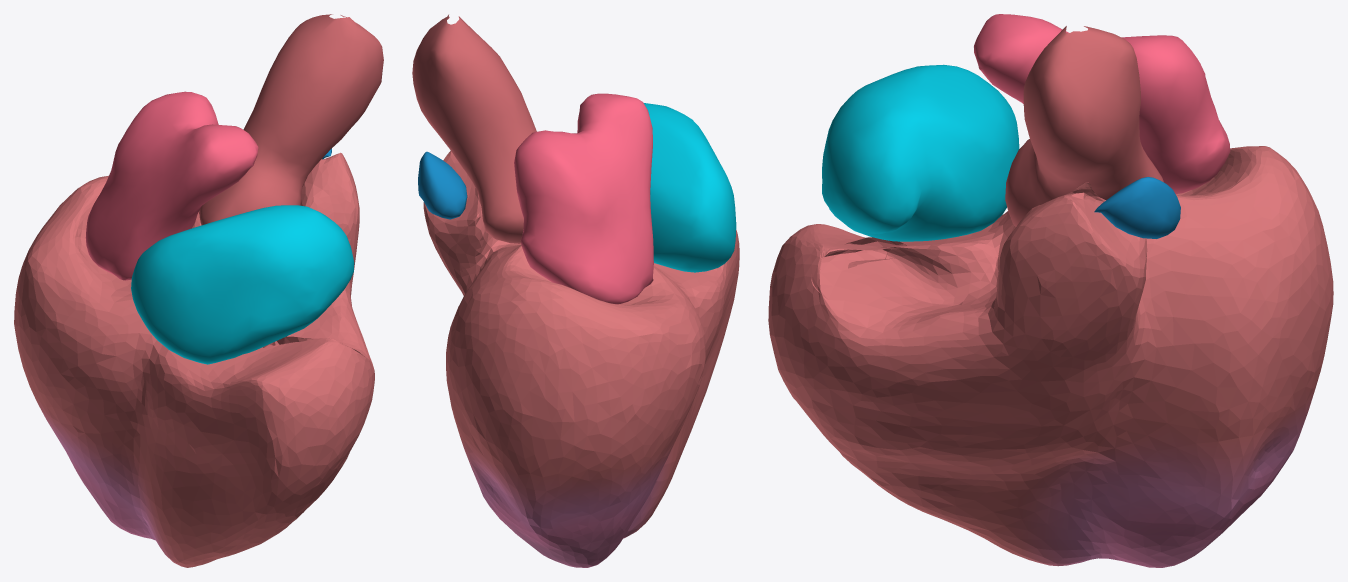
File: frame_49.glb
The picture shows the model from 3 angles, left to right: view 1: azimuth 30°, elevation 25°; view 2: azimuth 150°, elevation 25°; view 3: azimuth 270°, elevation 25°; orthographic projection. The views are drawn at different scales.
Visible parts, largest first — view 1: Renderer Node; view 2: Renderer Node; view 3: Renderer Node.
Boxes of the visible parts, left/top/right/bottom form: Renderer Node: left=14, top=14, right=383, bottom=567; Renderer Node: left=412, top=14, right=739, bottom=567; Renderer Node: left=768, top=14, right=1333, bottom=567.
Bounding box in the file's own units: 102 × 158 × 127.
